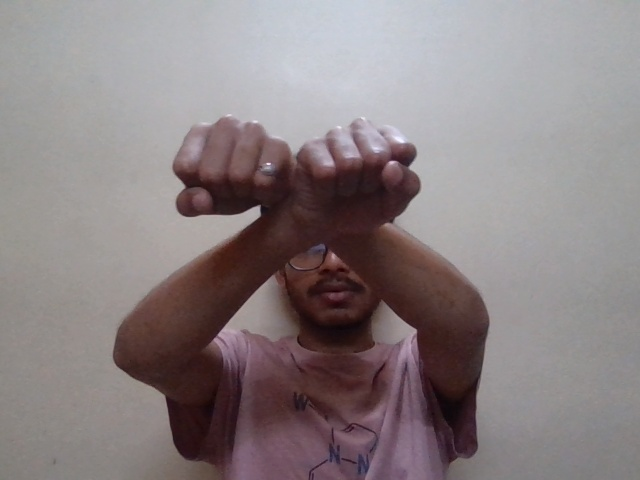work: (153, 80, 468, 259)
